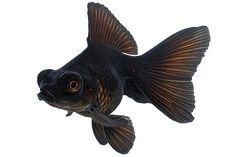goldfish: (33, 31, 209, 138)
